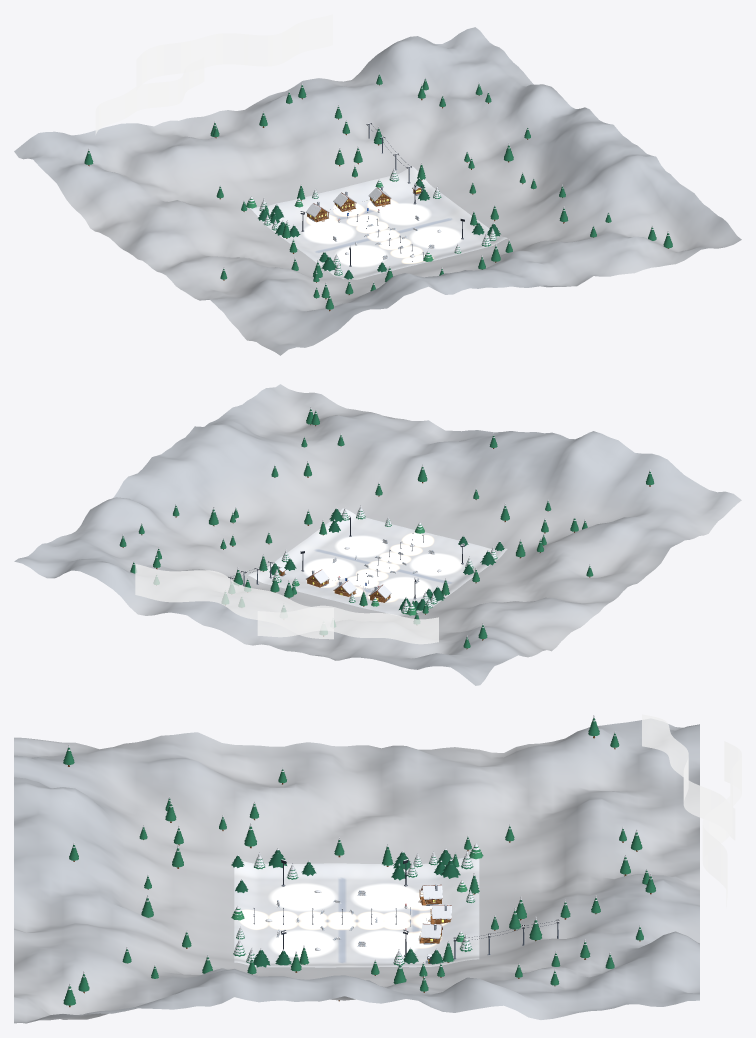
The model's file is night_resort.glb.
3 renders of one model, top to bottom at view 1: azimuth 30°, elevation 25°; view 2: azimuth 150°, elevation 25°; view 3: azimuth 270°, elevation 25°, orthographic. The views are drawn at different scales.
Visible parts, largest first — view 1: backdrop_hills, terrain, aurora_01, aurora_02; view 2: backdrop_hills, terrain, aurora_01, aurora_02; view 3: backdrop_hills, terrain, aurora_02, aurora_01.
Part boxes in pixels (x1,y1,x2,y2): backdrop_hills: (14,27,741,355); terrain: (250,166,507,279); aurora_01: (136,14,332,88); aurora_02: (95,57,204,134); backdrop_hills: (14,384,741,685); terrain: (248,508,507,615); aurora_01: (135,564,333,639); aurora_02: (257,605,438,644); backdrop_hills: (14,719,699,1023); terrain: (234,857,479,967); aurora_02: (642,714,735,840); aurora_01: (702,741,741,908).
Size of the model in its own units: 280 by 55.5 by 297.
